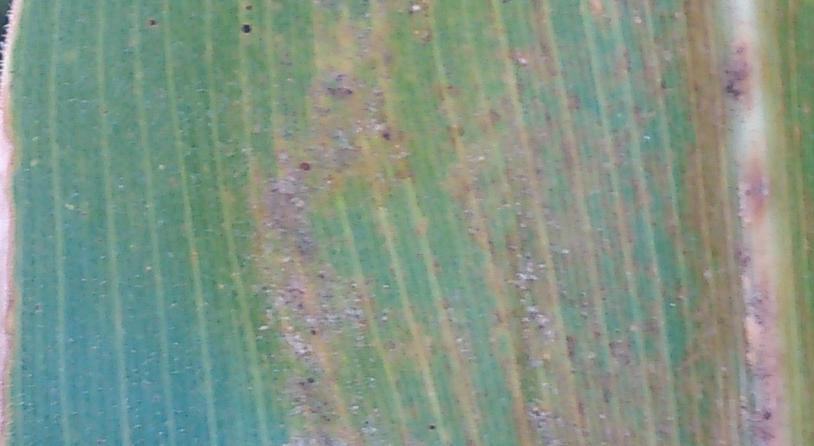tarspot: (720, 76, 740, 103), (293, 160, 314, 173), (238, 21, 255, 36), (760, 405, 774, 421), (314, 266, 328, 282), (425, 418, 438, 433), (240, 1, 256, 13), (145, 16, 159, 29), (404, 4, 417, 18), (302, 374, 317, 386), (308, 323, 319, 339), (381, 129, 392, 144), (345, 86, 356, 97)
